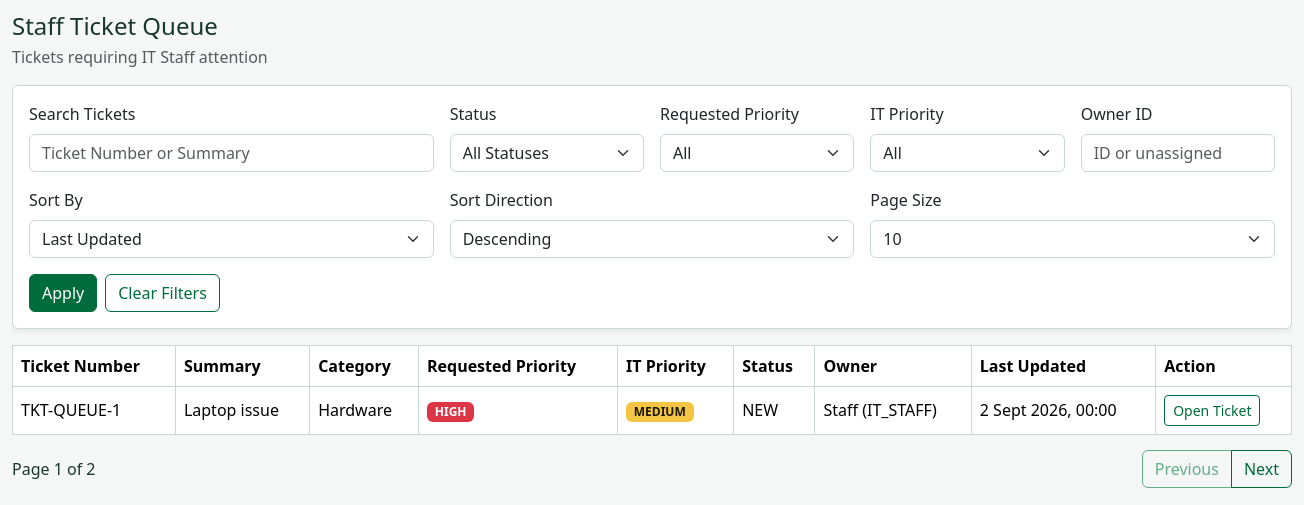
Test: Staff Ticket Queue › renders pagination controls and requests the next page with the active query
Expected: the text "Page 1 of 2" is shown, [12,457,96,481]
What coordinates should you click on to do the following:
click the button "Next"
I would click on:
 (1261, 469)
Its box is [1231,450,1292,488].
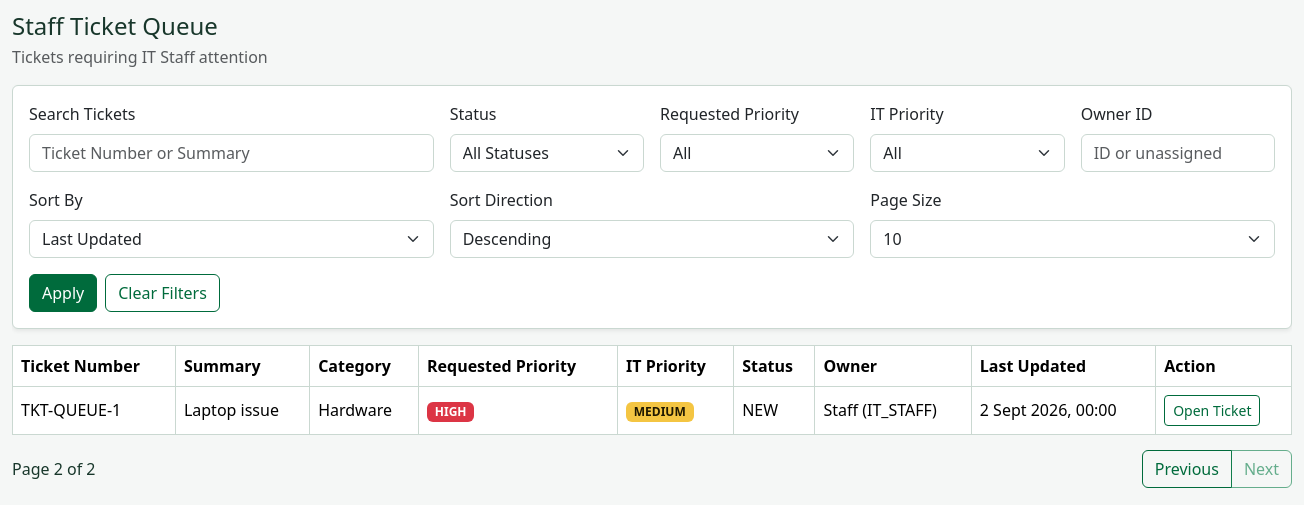
Result: the text "Page 2 of 2" is shown at [12,457,96,481]
